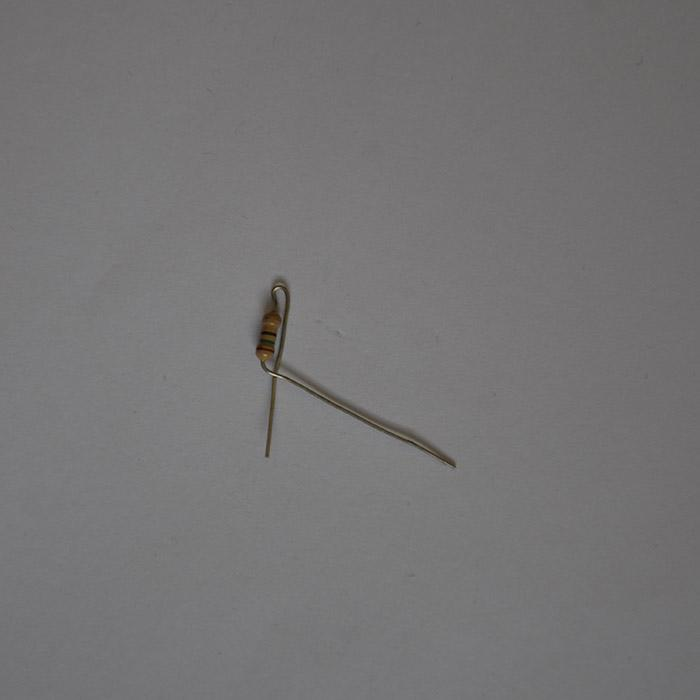resistor: (254, 305, 281, 362)
